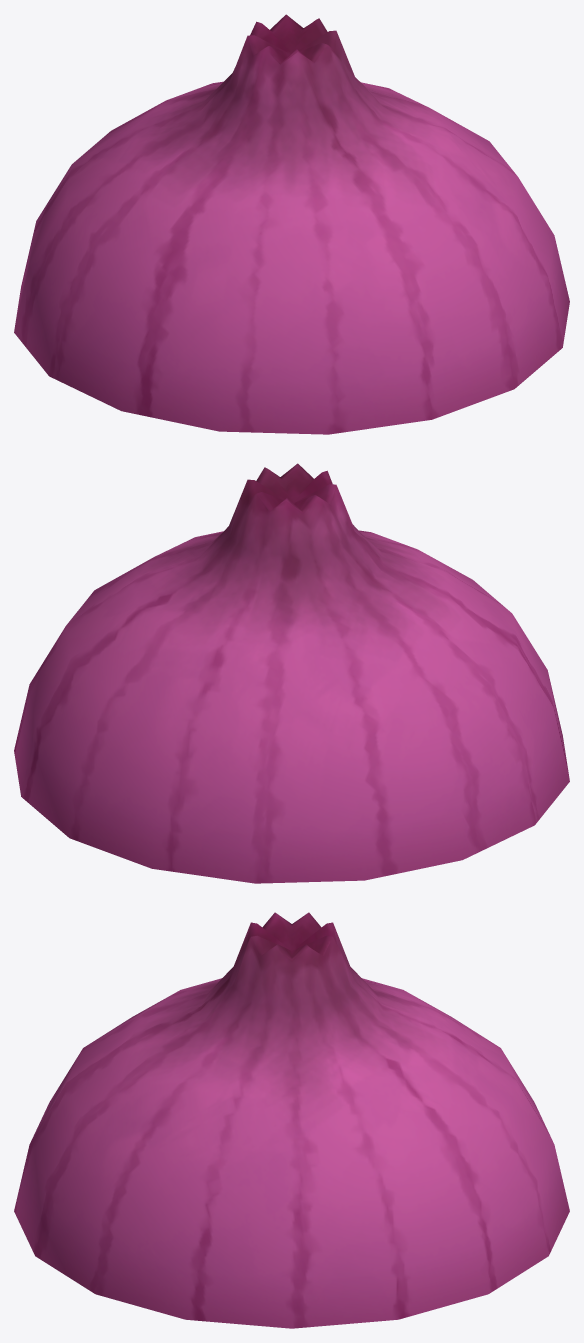
Rendered from onion_top.glb.
3 renders of one model, top to bottom at view 1: azimuth 30°, elevation 25°; view 2: azimuth 150°, elevation 25°; view 3: azimuth 270°, elevation 25°, orthographic.
Parts seen in each view (by area): view 1: OnionTopA; view 2: OnionTopA; view 3: OnionTopA.
Part boxes in pixels (x1=…): OnionTopA: x1=14, y1=14, x2=569, y2=434; OnionTopA: x1=14, y1=463, x2=569, y2=883; OnionTopA: x1=14, y1=912, x2=569, y2=1328.
Bounding box in the file's own units: 1.01 × 0.5649 × 1.01.
Materials: 1 (1 with a texture image).
